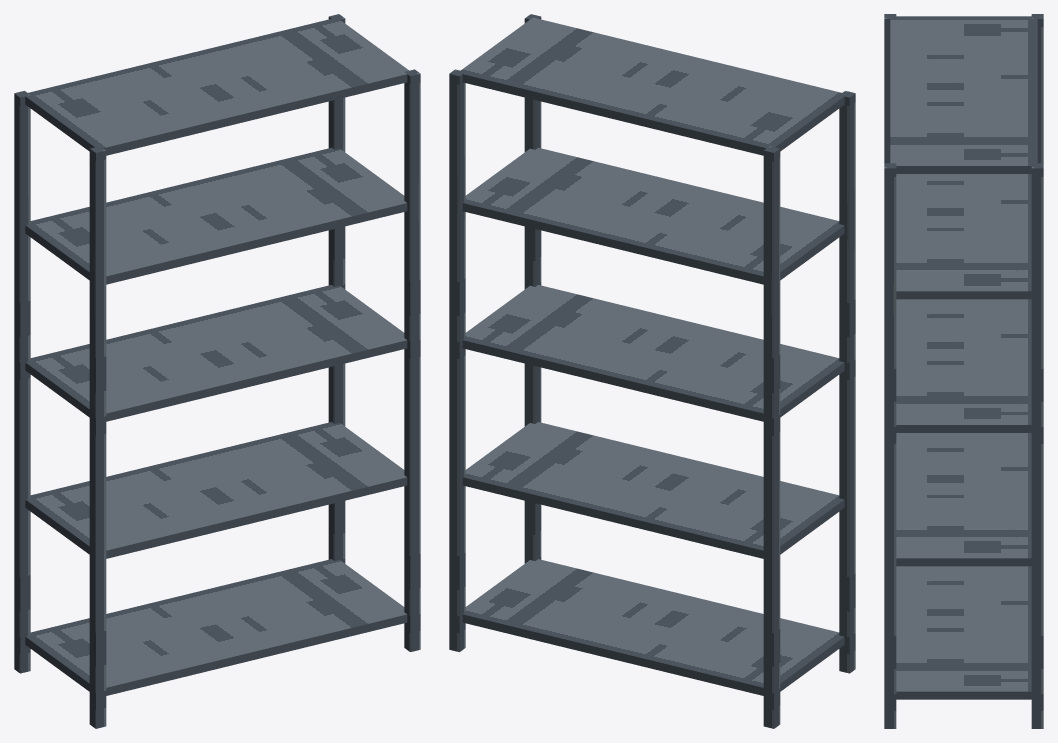
The model's file is shelf.glb.
3 renders of one model, left to right at view 1: azimuth 30°, elevation 25°; view 2: azimuth 150°, elevation 25°; view 3: azimuth 270°, elevation 25°, orthographic. The views are drawn at different scales.
Parts seen in each view (by area): view 1: shelf mesh; view 2: shelf mesh; view 3: shelf mesh.
Part boxes in pixels (bbox=[...]): shelf mesh: bbox=[14, 14, 420, 728]; shelf mesh: bbox=[449, 14, 855, 728]; shelf mesh: bbox=[884, 14, 1043, 728].
Size of the model in its own units: 1.24 by 2.1 by 0.54.
Materials: 1 (1 with a texture image).
